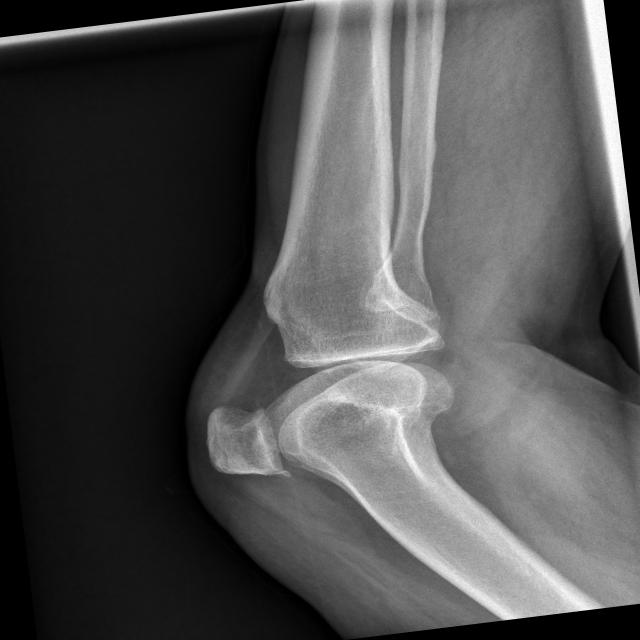Knee: (186, 262, 473, 489)
